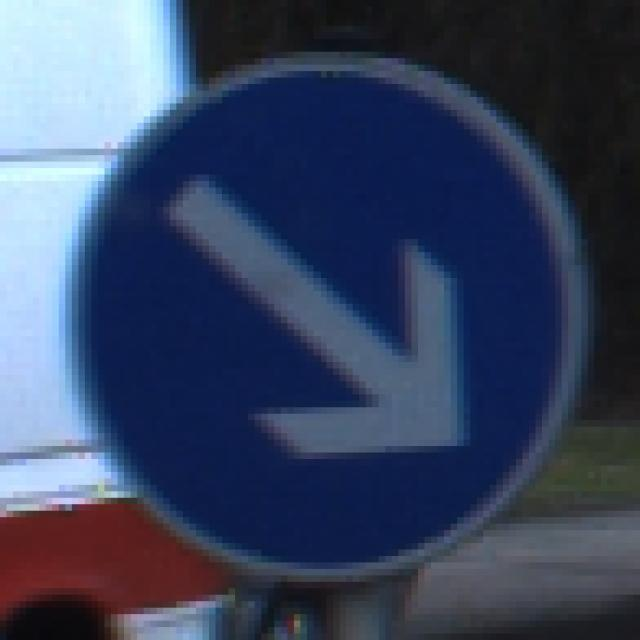compulsary keep right: (65, 48, 594, 588)
